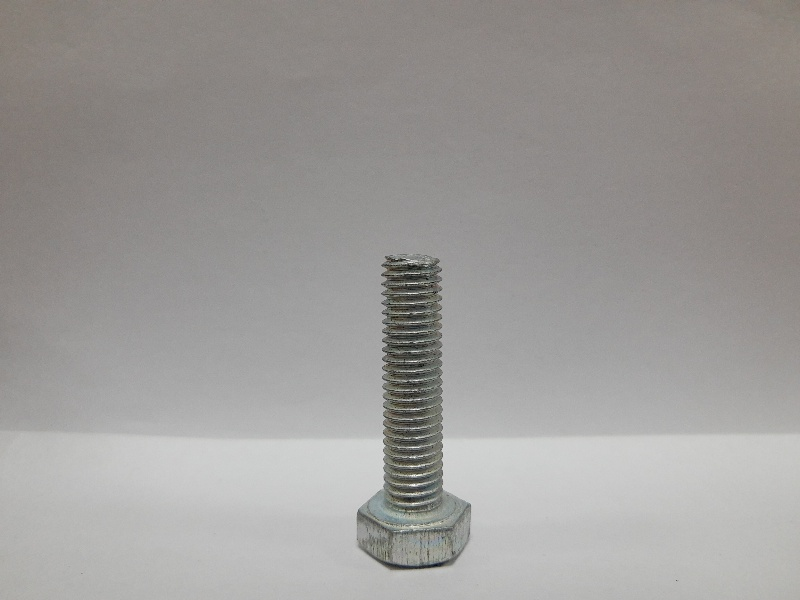pf: (349, 249, 477, 580)
